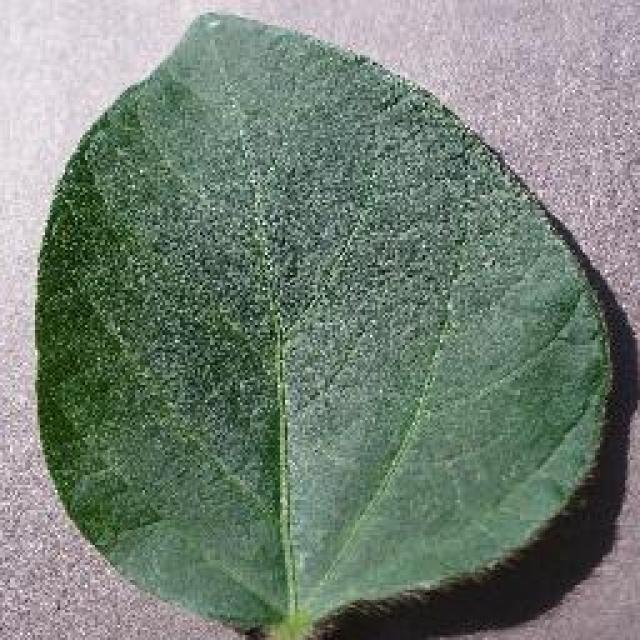Soy_healthy: (59, 85, 604, 560)
